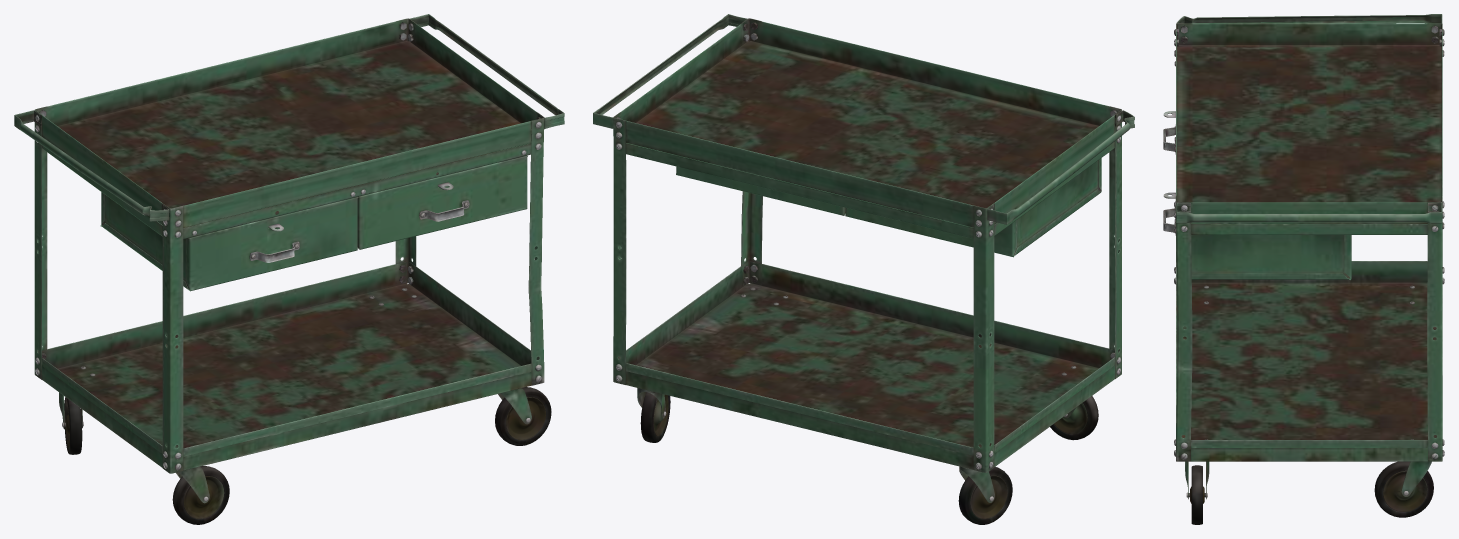
The picture shows the model from 3 angles, left to right: view 1: azimuth 30°, elevation 25°; view 2: azimuth 150°, elevation 25°; view 3: azimuth 270°, elevation 25°; orthographic projection. The views are drawn at different scales.
Parts seen in each view (by area): view 1: tool_cart; view 2: tool_cart; view 3: tool_cart.
Boxes of the visible parts, x1,y1,x2,y2 form: tool_cart: [14, 14, 564, 524]; tool_cart: [593, 14, 1134, 524]; tool_cart: [1163, 14, 1444, 524].
Size of the model in its own units: 1.27 by 0.9646 by 0.7536.
1 material, 1 textured.
